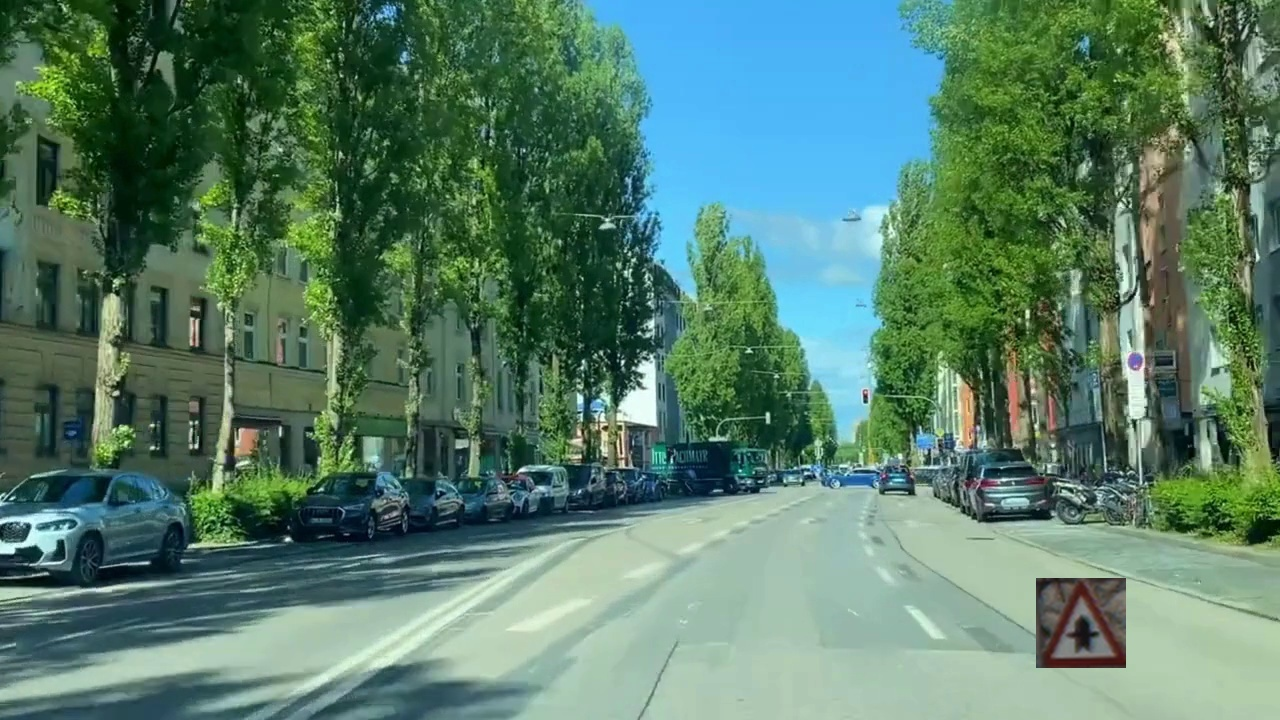Right-of-way: (1036, 578, 1126, 668)
